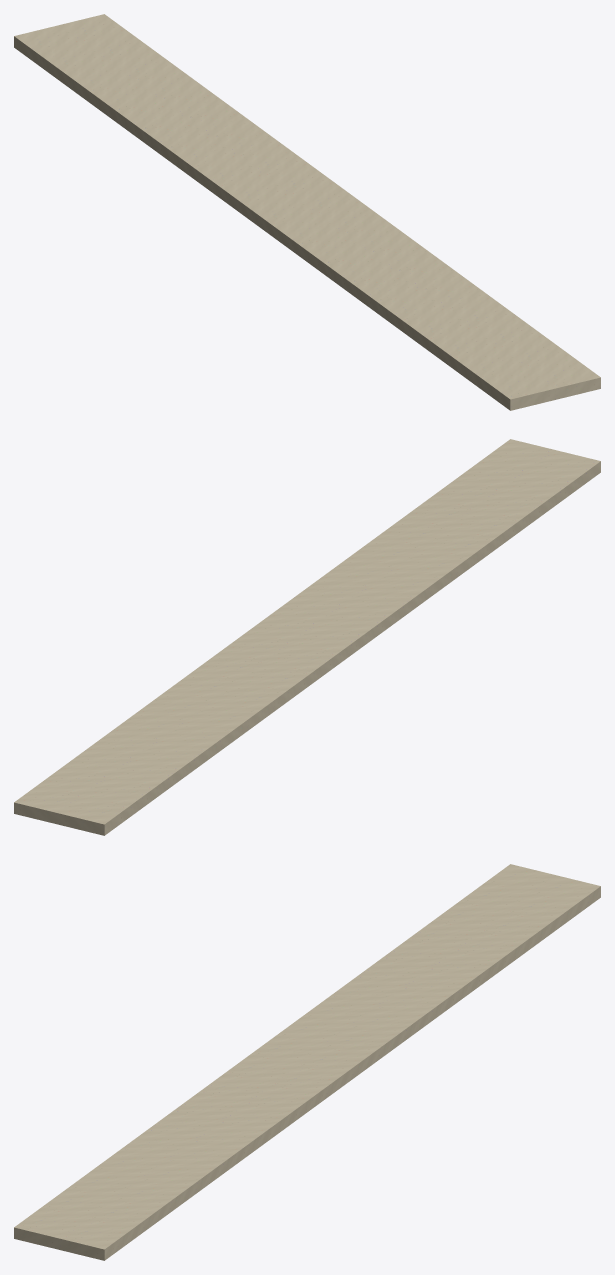
The model's file is SERVICE_D09_PF_outer_04__floor.glb.
The picture shows the model from 3 angles, top to bottom: view 1: azimuth 30°, elevation 25°; view 2: azimuth 150°, elevation 25°; view 3: azimuth 330°, elevation 25°; orthographic projection.
Parts seen in each view (by area): view 1: SERVICE_D09_PF_outer_04__floor__warm_stone; view 2: SERVICE_D09_PF_outer_04__floor__warm_stone; view 3: SERVICE_D09_PF_outer_04__floor__warm_stone.
Part boxes in pixels (left/top/right/bottom): SERVICE_D09_PF_outer_04__floor__warm_stone: left=14, top=14, right=600, bottom=410; SERVICE_D09_PF_outer_04__floor__warm_stone: left=14, top=439, right=600, bottom=835; SERVICE_D09_PF_outer_04__floor__warm_stone: left=14, top=864, right=600, bottom=1260.
Bounding box in the file's own units: 2 × 0.24 × 19.
Materials: 1 (1 with a texture image).
